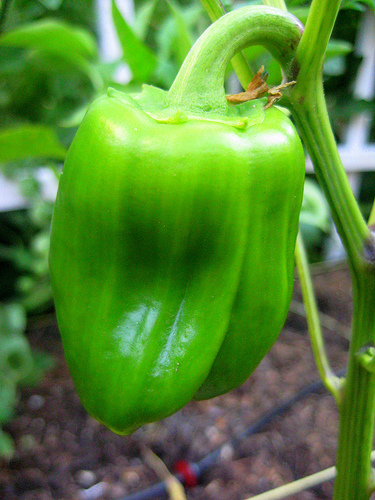capsicum: (46, 71, 307, 438)
